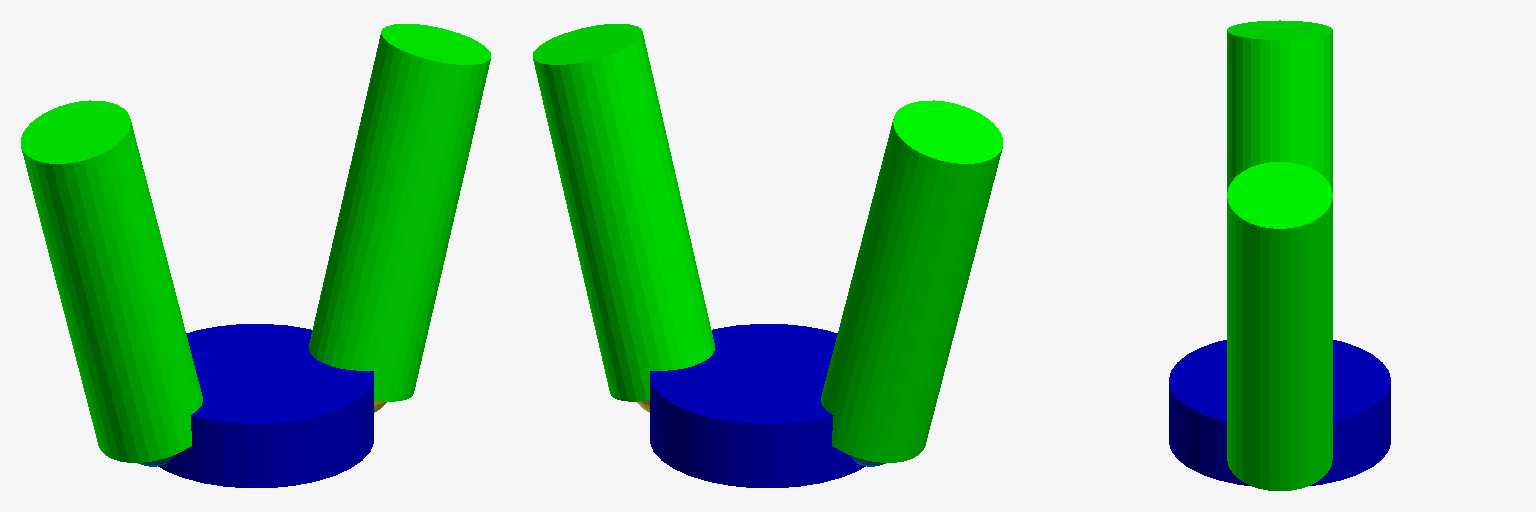
URDF robot description (gripper_2f_1j):
<?xml version='1.0' encoding='UTF-8'?>
<robot name="gripper_2f_1j">
  <link name="palm">
    <inertial>
      <origin xyz="0.0 0.0 0.0" rpy="0.0 -0.0 0.0"/>
      <mass value="1.0"/>
      <inertia ixx="1.0" ixy="0.0" ixz="0.0" iyy="1.0" iyz="0.0" izz="1.0"/>
    </inertial>
    <visual>
      <geometry>
        <cylinder radius="0.05" length="0.03"/>
      </geometry>
      <material name="blue"/>
      <origin xyz="0.0 0.0 0.0" rpy="0.0 -0.0 0.0"/>
    </visual>
    <collision>
      <geometry>
        <cylinder radius="0.05" length="0.03"/>
      </geometry>
      <origin xyz="0.0 0.0 0.0" rpy="0.0 0.0 0.0"/>
    </collision>
  </link>
  <link name="f11">
    <inertial>
      <origin xyz="0.0 0.0 0.0" rpy="0.0 -0.0 0.0"/>
      <mass value="1.0"/>
      <inertia ixx="1.0" ixy="0.0" ixz="0.0" iyy="1.0" iyz="0.0" izz="1.0"/>
    </inertial>
    <visual>
      <geometry>
        <cylinder radius="0.023818888843470346" length="0.1524551638851669"/>
      </geometry>
      <material name="green"/>
      <origin xyz="0.0 0.0 0.07622758194258344" rpy="0.0 -0.0 0.0"/>
    </visual>
    <collision>
      <geometry>
        <cylinder radius="0.023818888843470346" length="0.1524551638851669"/>
      </geometry>
      <origin xyz="0.0 0.0 0.05" rpy="0.0 0.0 0.0"/>
    </collision>
  </link>
  <link name="f21">
    <inertial>
      <origin xyz="0.0 0.0 0.0" rpy="0.0 -0.0 0.0"/>
      <mass value="1.0"/>
      <inertia ixx="1.0" ixy="0.0" ixz="0.0" iyy="1.0" iyz="0.0" izz="1.0"/>
    </inertial>
    <visual>
      <geometry>
        <cylinder radius="0.023818888843470346" length="0.1524551638851669"/>
      </geometry>
      <material name="green"/>
      <origin xyz="0.0 0.0 0.07622758194258344" rpy="0.0 -0.0 0.0"/>
    </visual>
    <collision>
      <geometry>
        <cylinder radius="0.023818888843470346" length="0.1524551638851669"/>
      </geometry>
      <origin xyz="0.0 0.0 0.05" rpy="0.0 0.0 0.0"/>
    </collision>
  </link>
  <link name="f11_base">
    <inertial>
      <origin xyz="0.0 0.0 0.0" rpy="0.0 -0.0 0.0"/>
      <mass value="1.0"/>
      <inertia ixx="1.0" ixy="0.0" ixz="0.0" iyy="1.0" iyz="0.0" izz="1.0"/>
    </inertial>
    <visual>
      <geometry>
        <sphere radius="0.015"/>
      </geometry>
      <origin xyz="0.0 0.0 0.0" rpy="0.0 -0.0 0.0"/>
    </visual>
  </link>
  <link name="f21_base">
    <inertial>
      <origin xyz="0.0 0.0 0.0" rpy="0.0 -0.0 0.0"/>
      <mass value="1.0"/>
      <inertia ixx="1.0" ixy="0.0" ixz="0.0" iyy="1.0" iyz="0.0" izz="1.0"/>
    </inertial>
    <visual>
      <geometry>
        <sphere radius="0.015"/>
      </geometry>
      <origin xyz="0.0 0.0 0.0" rpy="0.0 -0.0 0.0"/>
    </visual>
  </link>
  <joint name="f11_joint" type="revolute">
    <dynamics damping="100.0" friction="1.0"/>
    <limit effort="30.0" velocity="2.0" lower="-0.6" upper="0.25"/>
    <parent link="f11_base"/>
    <child link="f11"/>
    <axis xyz="0. 1. 0."/>
    <origin xyz="0.0 0.0 0.0" rpy="0.0 0.25 0.0"/>
  </joint>
  <joint name="f21_joint" type="revolute">
    <dynamics damping="100.0" friction="1.0"/>
    <limit effort="30.0" velocity="2.0" lower="-0.6" upper="0.25"/>
    <parent link="f21_base"/>
    <child link="f21"/>
    <axis xyz=" 0. -1.  0."/>
    <origin xyz="0.0 0.0 0.0" rpy="0.0 -0.25 0.0"/>
  </joint>
  <joint name="f11_base_joint" type="fixed">
    <parent link="palm"/>
    <child link="f11_base"/>
    <axis xyz="1. 0. 0."/>
    <origin xyz="0.05 0.0 0.0" rpy="0.0 0.0 0.0"/>
  </joint>
  <joint name="f21_base_joint" type="fixed">
    <parent link="palm"/>
    <child link="f21_base"/>
    <axis xyz="1. 0. 0."/>
    <origin xyz="-0.05 -0.0 0.0" rpy="0.0 0.0 0.0"/>
  </joint>
  <material name="blue">
    <color rgba="0.  0.  0.8 1. "/>
  </material>
  <material name="green">
    <color rgba="0. 1. 0. 1."/>
  </material>
</robot>

--- Render facts (derived) ---
3 views of the same robot in one strip: view 1: azimuth 30°, elevation 25°; view 2: azimuth 150°, elevation 25°; view 3: azimuth 270°, elevation 25° (orthographic).
Robot: gripper_2f_1j — 5 links, 4 joints (2 revolute, 2 fixed); root link palm; default pose: every joint at zero.
Links seen in each view (by area): view 1: f11, f21, palm; view 2: f11, f21, palm; view 3: f11, f21, palm.
Link boxes in pixels (box(x1,y1,x2,y2)): f11: box(309, 24, 490, 401); f21: box(21, 100, 202, 462); palm: box(158, 324, 373, 487); f11: box(533, 24, 714, 401); f21: box(821, 100, 1002, 462); palm: box(650, 324, 865, 487); f11: box(1227, 162, 1332, 490); f21: box(1227, 20, 1332, 191); palm: box(1169, 340, 1390, 485).
Bounding box of the posed robot: 0.2216 × 0.1 × 0.1686 m (x, y, z).
Geometry: primitives only (box / cylinder / sphere), no mesh files.